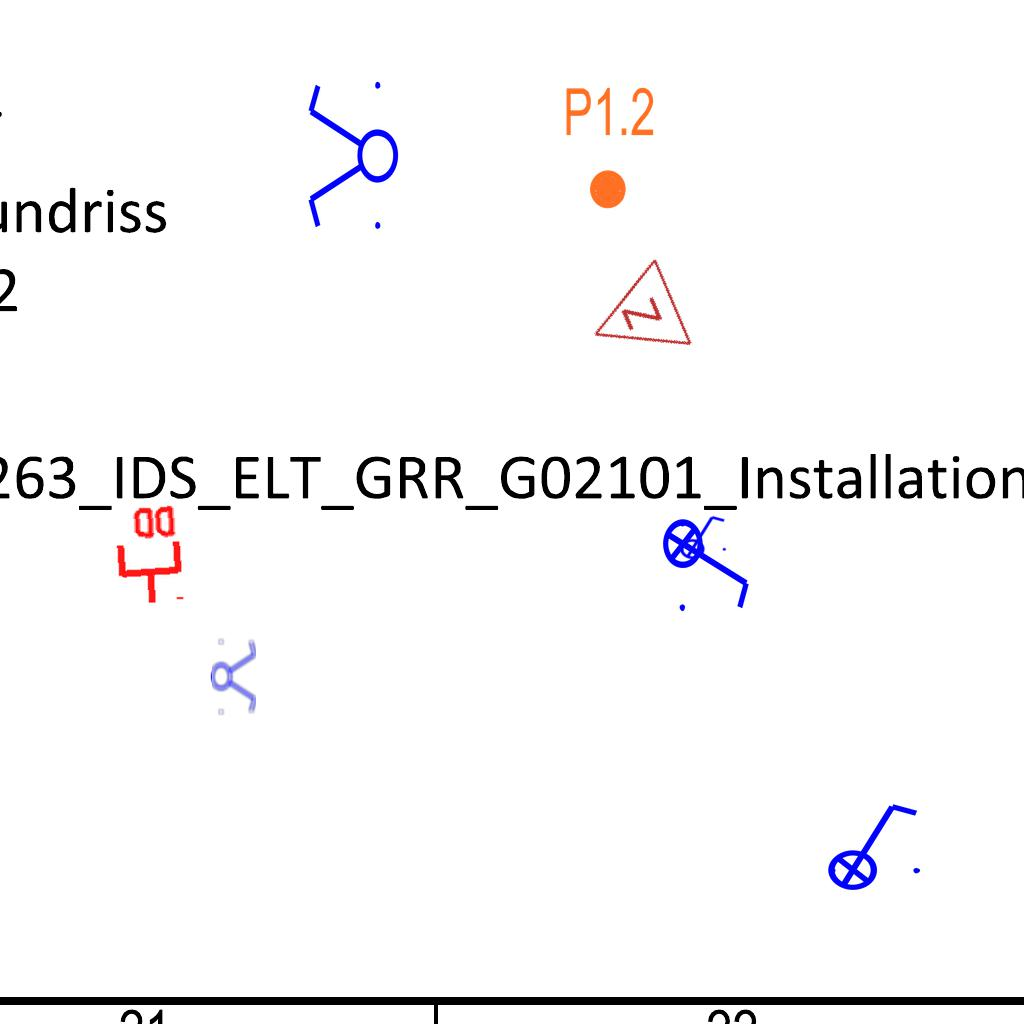Ausschalter_beleuchtet: (661, 505, 757, 617), (814, 796, 926, 892), (673, 512, 729, 560)
Datenanschluss_zweifach: (109, 500, 186, 609)
Downlight_LED_Einbauleuchten_Flur: (563, 84, 656, 212)
Serienschalter: (304, 73, 400, 241), (210, 634, 258, 718)
Zimmersignalleuchte: (569, 254, 701, 384)
